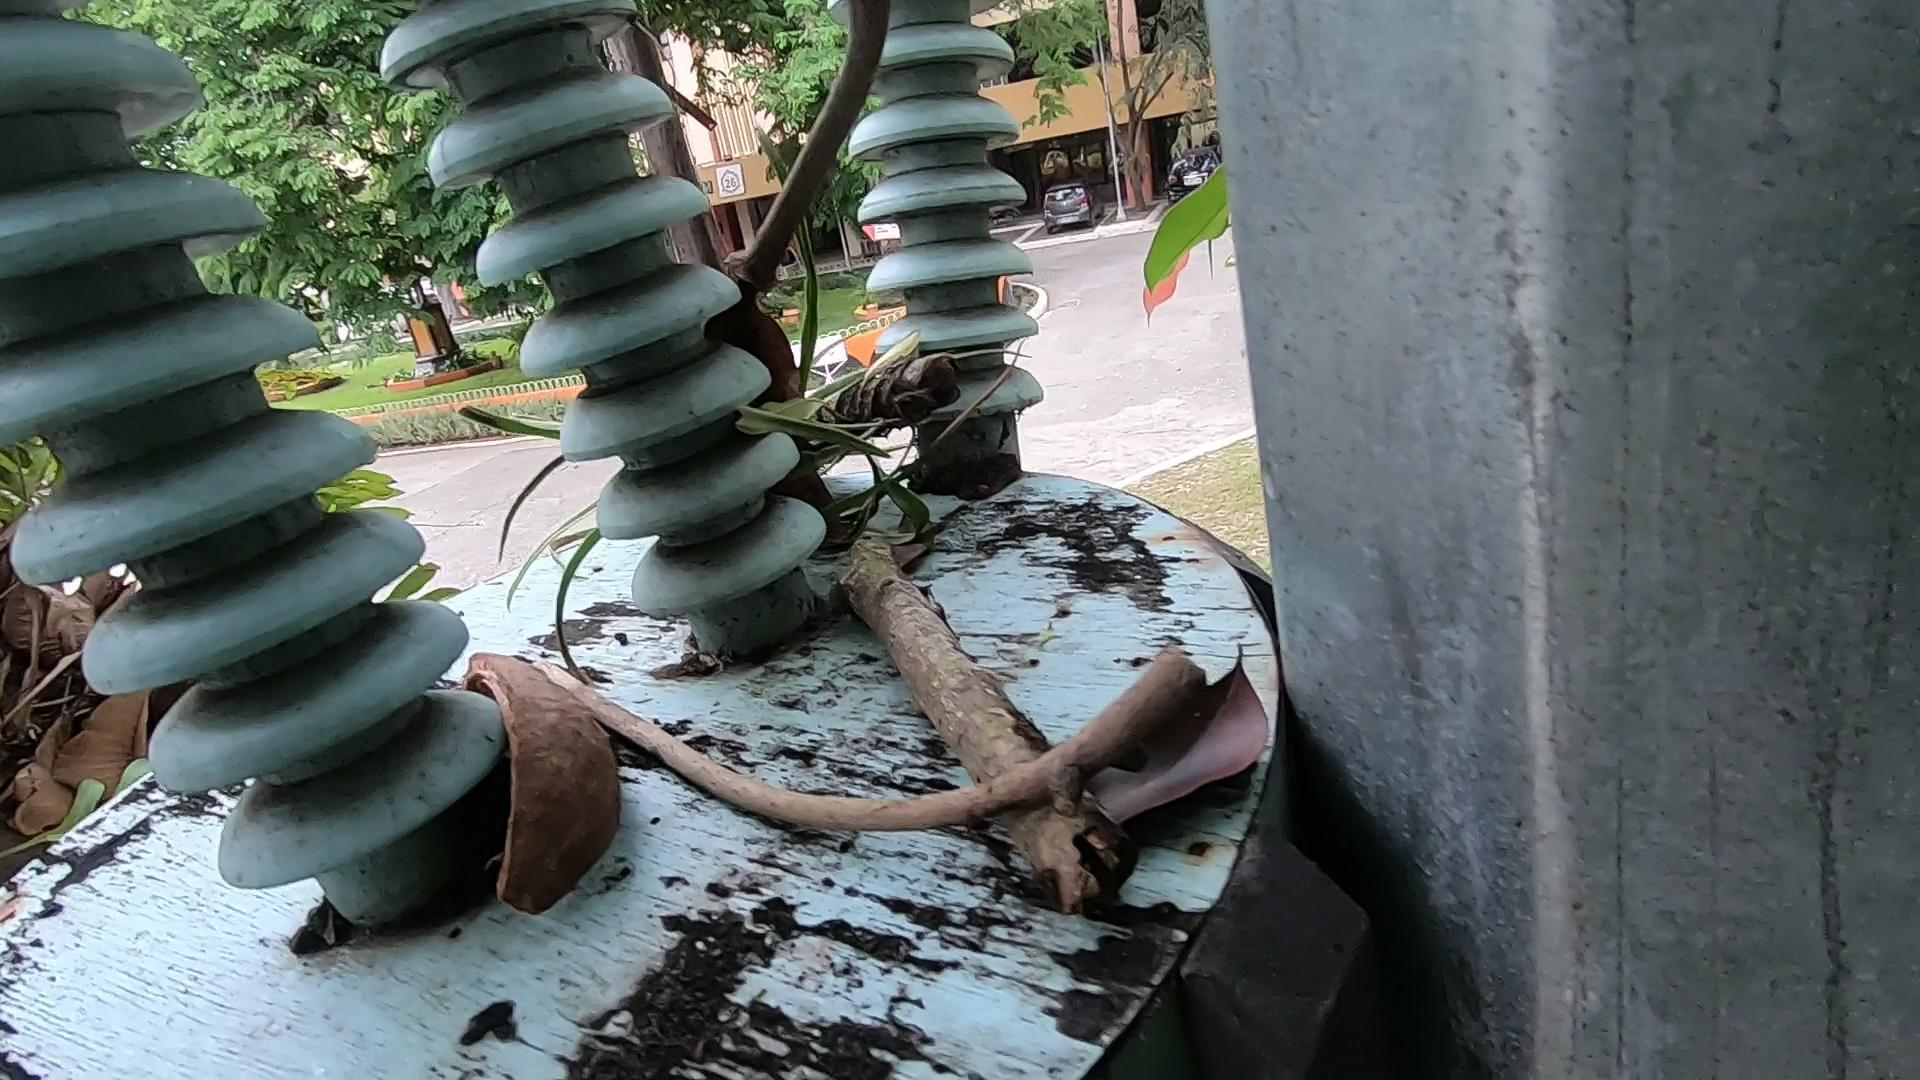branch with leaves: (678, 357, 1172, 920)
mahogany fruit: (425, 671, 662, 978)
tree branch: (512, 663, 1240, 833), (731, 1, 870, 371), (1143, 638, 1265, 847)
